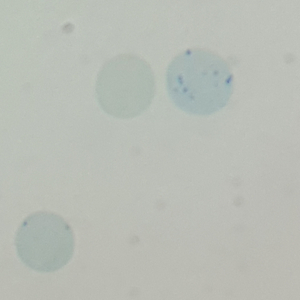aggregate reticulocyte: (164, 46, 234, 117)
erythrocyte: (94, 51, 158, 120)
punctate reticulocyte: (12, 211, 76, 276)
